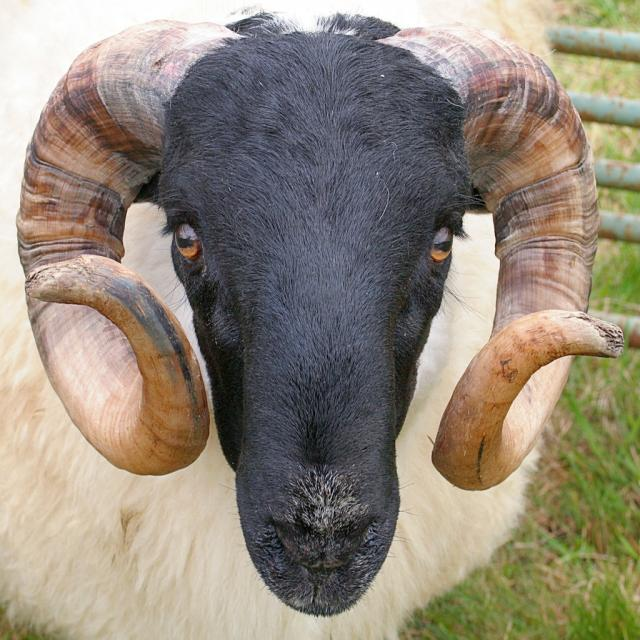Sheep: (0, 0, 621, 640)
